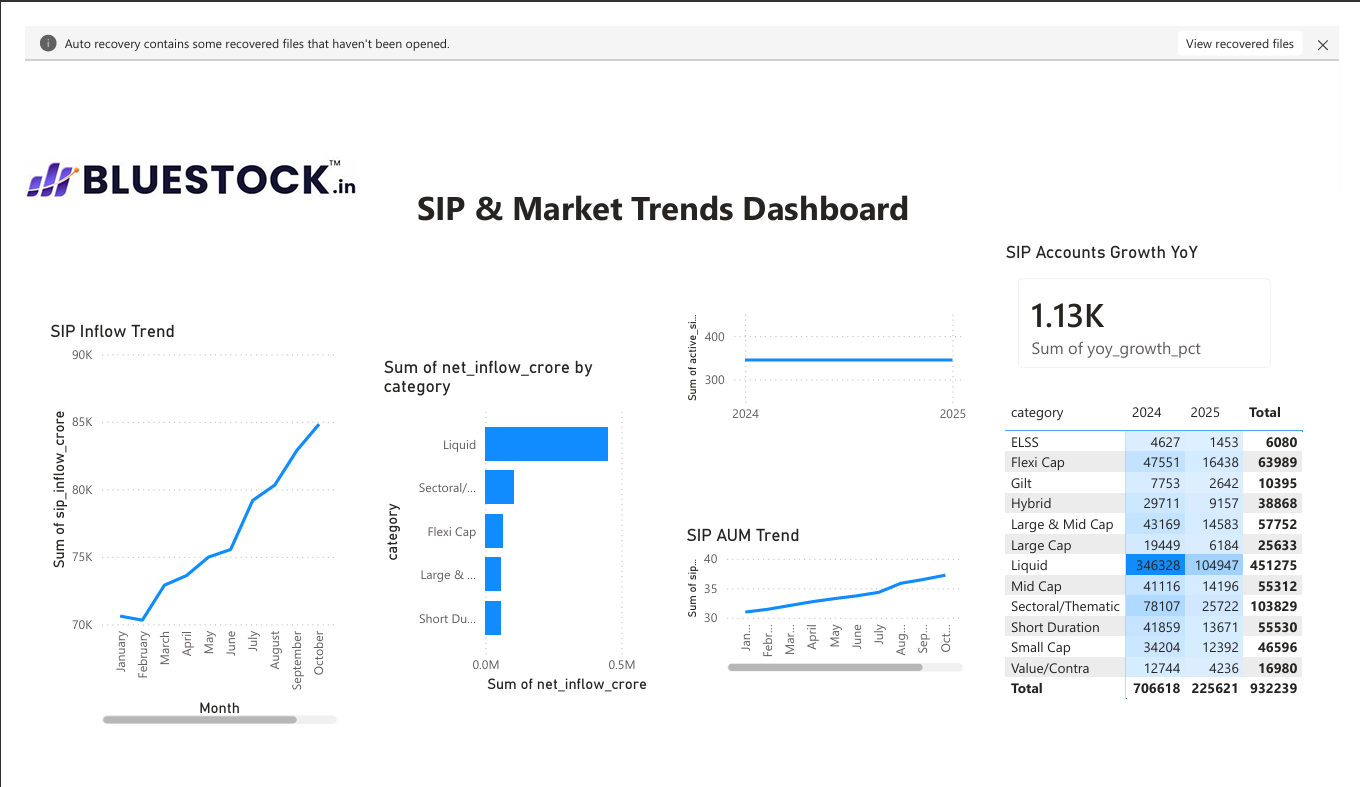

The page's visual inventory and layout, read from the dashboard file:
{"tool":"powerbi","page":{"name":"SIP & Market Trends","canvas":[1280,720],"ordinal":3},"visuals":[{"type":"cardVisual","title":"SIP Accounts Growth YoY","fields":{"Data":["Sum(04_monthly_sip_inflows.yoy_growth_pct)"]},"box":[950.4,208.7,279.3,141.3],"z":0},{"type":"lineChart","title":"SIP Inflow Trend","fields":{"Category":["04_monthly_sip_inflows.month.Variation.Date Hierarchy.Month"],"Y":["Sum(04_monthly_sip_inflows.sip_inflow_crore)"]},"box":[19.3,285.8,289,398.1],"z":1000},{"type":"lineChart","title":"SIP AUM Trend","fields":{"Category":["04_monthly_sip_inflows.month.Variation.Date Hierarchy.Month"],"Y":["Sum(04_monthly_sip_inflows.sip_aum_lakh_crore)"]},"box":[638.9,484.8,279.3,147.7],"z":2000},{"type":"clusteredBarChart","fields":{"Category":["05_category_inflows.category"],"Y":["Sum(05_category_inflows.net_inflow_crore)"]},"box":[343.6,321.1,282.5,330.7],"z":3000},{"type":"pivotTable","fields":{"Rows":["05_category_inflows.category"],"Columns":["05_category_inflows.month.Variation.Date Hierarchy.Year","05_category_inflows.month.Variation.Date Hierarchy.Quarter","05_category_inflows.month.Variation.Date Hierarchy.Month","05_category_inflows.month.Variation.Date Hierarchy.Day"],"Values":["Sum(05_category_inflows.net_inflow_crore)"]},"box":[950.4,359.6,330.7,356.4],"z":4000},{"type":"lineChart","title":"Active SIP Accounts Trend","fields":{"Category":["05_category_inflows.month.Variation.Date Hierarchy.Year","05_category_inflows.month.Variation.Date Hierarchy.Quarter","05_category_inflows.month.Variation.Date Hierarchy.Month","05_category_inflows.month.Variation.Date Hierarchy.Day"],"Y":["Sum(04_monthly_sip_inflows.active_sip_accounts_crore)"]},"box":[638.9,247.2,282.5,147.7],"z":5000},{"type":"textbox","box":[590,0,280,280],"z":6000},{"type":"textbox","box":[375.7,147.7,526.6,77.1],"z":7000},{"type":"image","box":[0,77.1,324.3,141.3],"z":8000}]}

Visuals, with their boxes on the page's 1280x720 design canvas (x1, y1, x2, y2). These are canvas units, not pixel positions in the 1360x787 screenshot, which may show the page scaled, cropped or inside an application window:
"SIP Accounts Growth YoY" cardVisual: <box>950,209,1230,350</box>
"SIP Inflow Trend" lineChart: <box>19,286,308,684</box>
"SIP AUM Trend" lineChart: <box>639,485,918,632</box>
clusteredBarChart - 05_category_inflows.category x Sum(05_category_inflows.net_inflow_crore): <box>344,321,626,652</box>
pivotTable - 05_category_inflows.category x 05_category_inflows.month.Variation.Date Hierarchy.Year: <box>950,360,1281,716</box>
"Active SIP Accounts Trend" lineChart: <box>639,247,921,395</box>
textbox: <box>590,0,870,280</box>
textbox: <box>376,148,902,225</box>
image: <box>0,77,324,218</box>
